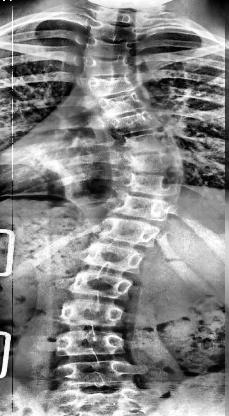Vertebrae: (76, 234, 152, 276), (99, 191, 182, 225), (109, 164, 180, 202), (57, 356, 134, 390), (55, 327, 129, 361), (90, 212, 168, 244), (58, 294, 126, 330), (67, 267, 133, 303), (77, 67, 146, 101), (104, 108, 162, 138), (116, 128, 174, 158), (122, 150, 184, 176), (93, 90, 147, 118), (80, 54, 138, 80), (82, 35, 136, 61)
